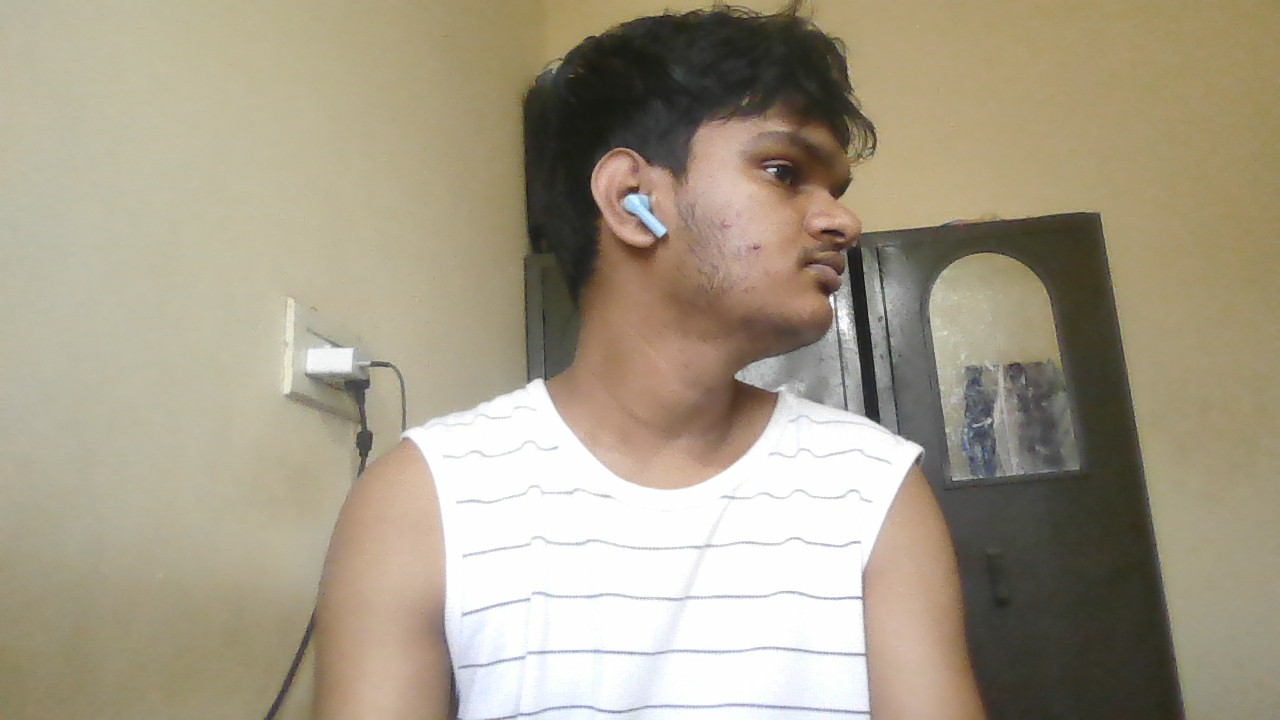earphone: (624, 184, 668, 247)
